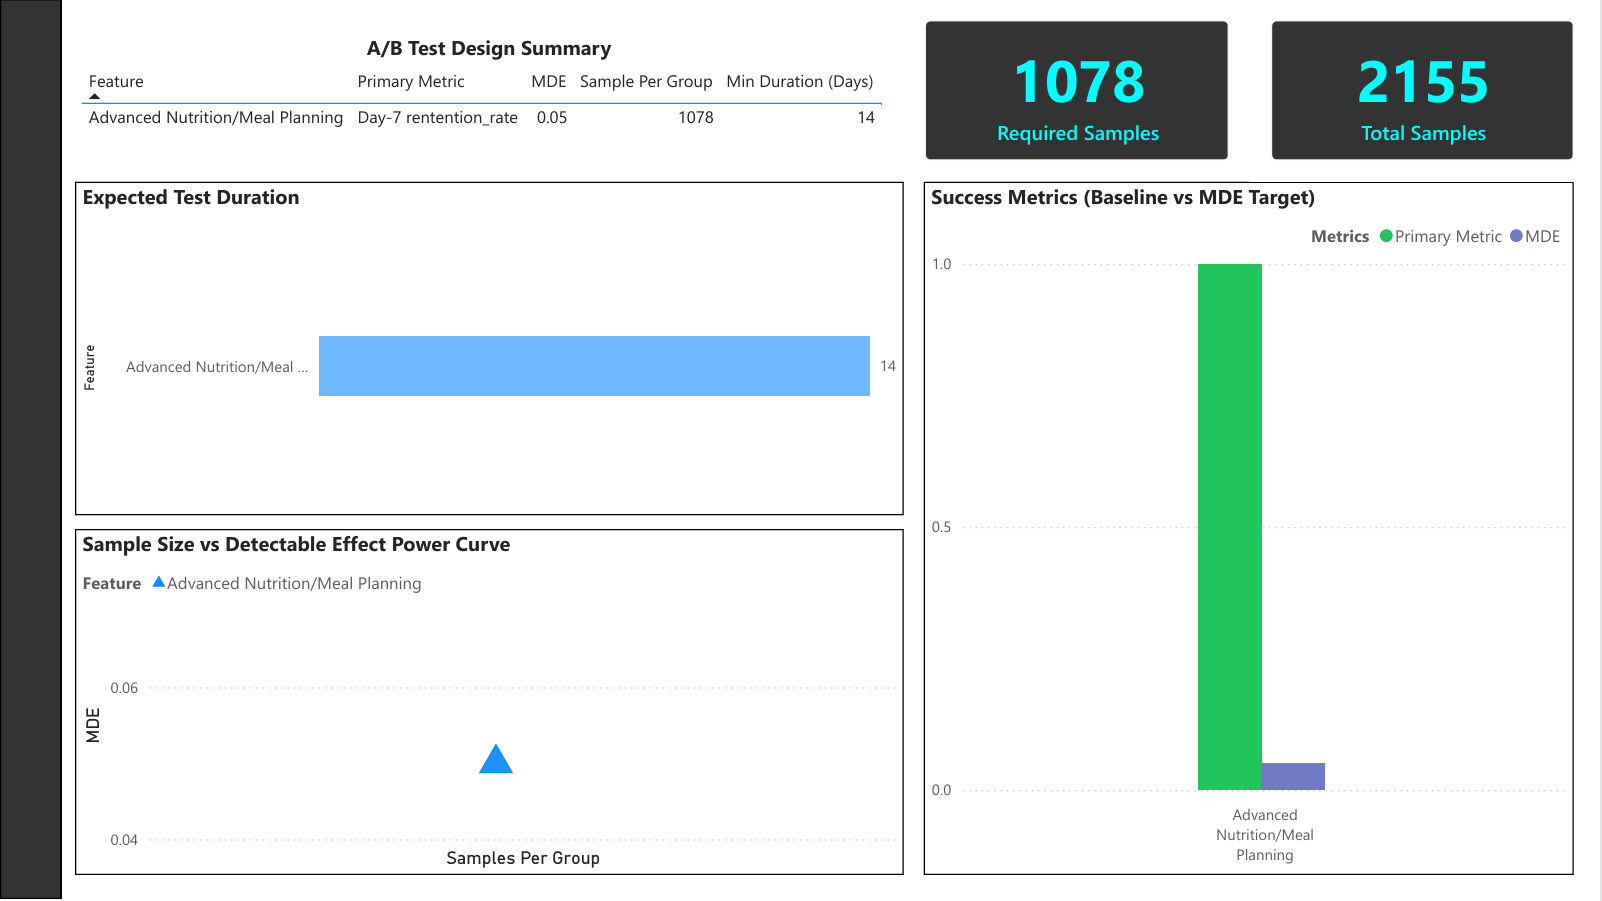

This screenshot's page, from the dashboard's own definition file:
{"tool":"powerbi","page":{"name":"A/B Test Plan","canvas":[1280,720],"ordinal":5},"visuals":[{"type":"shape","box":[0,0,49.1,720.3],"z":0},{"type":"tableEx","title":"A/B Test Design Summary","fields":{"Values":["ab_test_design.Feature","ab_test_design.Primary_Metric","Sum(ab_test_design.MDE)","Sum(ab_test_design.Sample_Per_Group)","Sum(ab_test_design.Min_Duration_Days)"]},"box":[60,27.5,662.5,91.2],"z":1000},{"type":"cardVisual","title":"Required Sample Size Per Group","fields":{"Data":["Min(ab_test_design.Sample_Per_Group)"]},"box":[722.5,0,277.5,146.2],"z":2000},{"type":"clusteredBarChart","title":"Expected Test Duration","fields":{"Category":["ab_test_design.Feature"],"Y":["Sum(ab_test_design.Min_Duration_Days)"]},"box":[59.9,146.2,662.8,267.3],"z":3000},{"type":"clusteredColumnChart","title":"Success Metrics (Baseline vs MDE Target)","fields":{"Category":["ab_test_design.Feature"],"Y":["CountNonNull(ab_test_design.Primary_Metric)","Sum(ab_test_design.MDE)"]},"box":[739.5,146.2,520.1,554.9],"z":4000},{"type":"scatterChart","title":"Sample Size vs Detectable Effect Power Curve","fields":{"X":["ab_test_design.Sample_Per_Group"],"Y":["ab_test_design.MDE"],"Series":["ab_test_design.Feature"],"Size":["Min(ab_test_design.RICE_Score)"]},"box":[59.9,424.3,662.8,276.9],"z":5000},{"type":"cardVisual","title":"Required Sample Size Per Group","fields":{"Data":["Sum(ab_test_design.Total_Sample)"]},"box":[1000,0,276.2,146.2],"z":6000}]}

Visuals, with their boxes in screenshot pixels (x1, y1, x2, y2), scaled from the page's 1280x720 canvas onto the 1602x901 screenshot:
shape: left=0, top=0, right=61, bottom=900
"A/B Test Design Summary" tableEx: left=75, top=34, right=904, bottom=149
"Required Sample Size Per Group" cardVisual: left=904, top=0, right=1252, bottom=183
"Expected Test Duration" clusteredBarChart: left=75, top=183, right=905, bottom=517
"Success Metrics (Baseline vs MDE Target)" clusteredColumnChart: left=926, top=183, right=1576, bottom=877
"Sample Size vs Detectable Effect Power Curve" scatterChart: left=75, top=531, right=905, bottom=877
"Required Sample Size Per Group" cardVisual: left=1252, top=0, right=1597, bottom=183
